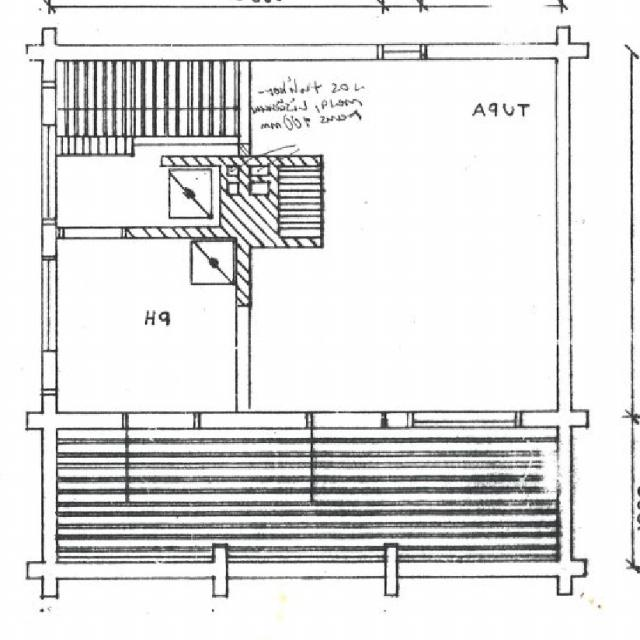door: (312, 412, 382, 503), (127, 412, 196, 501)
